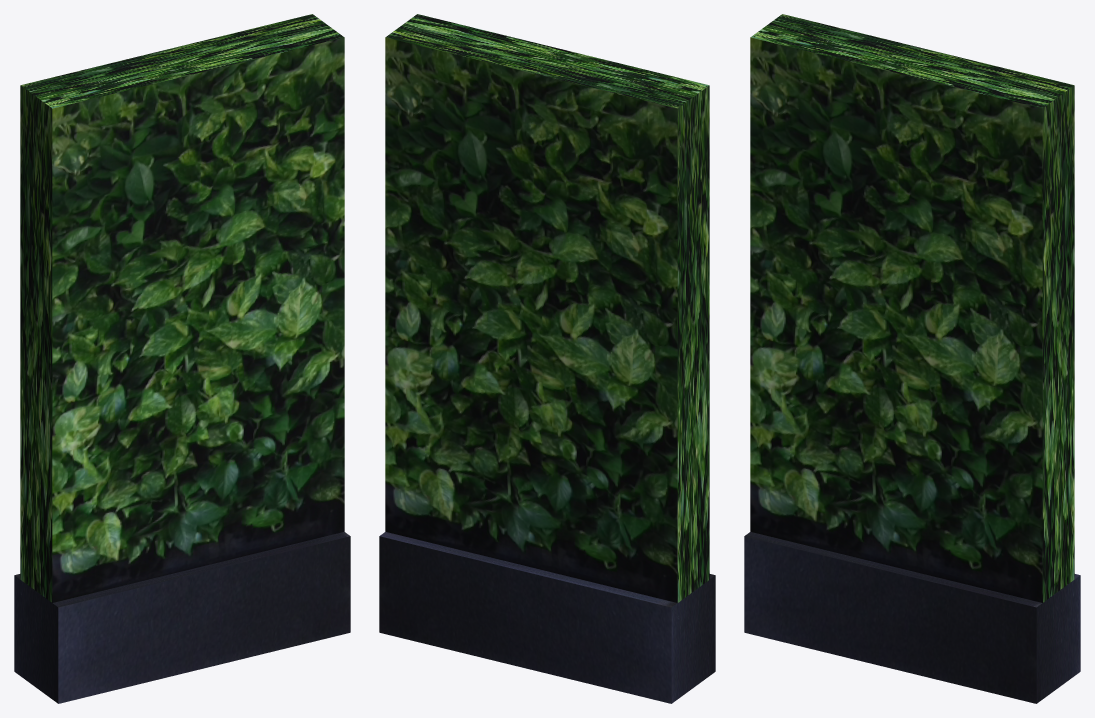
Rendered from Plant2.glb.
The picture shows the model from 3 angles, left to right: view 1: azimuth 30°, elevation 25°; view 2: azimuth 150°, elevation 25°; view 3: azimuth 330°, elevation 25°; orthographic projection.
Parts seen in each view (by area): view 1: Box001; view 2: Box001; view 3: Box001.
Part boxes in pixels (x1,y1,x2,y2): Box001: [14, 14, 350, 703]; Box001: [379, 14, 715, 703]; Box001: [744, 14, 1080, 703].
Size of the model in its own units: 1.47 by 2.84 by 0.3838.
Materials: 2 (2 with a texture image).
